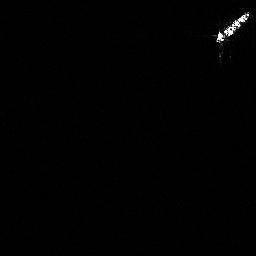ship: (213, 8, 252, 48)
